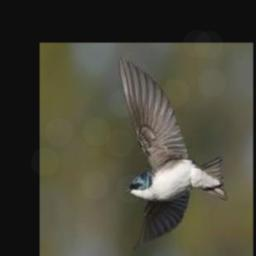Swallow: (117, 56, 226, 249)
